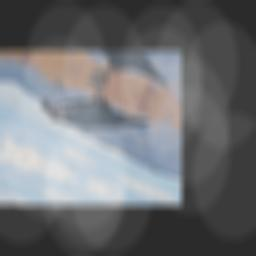Crow: (35, 63, 161, 156)
